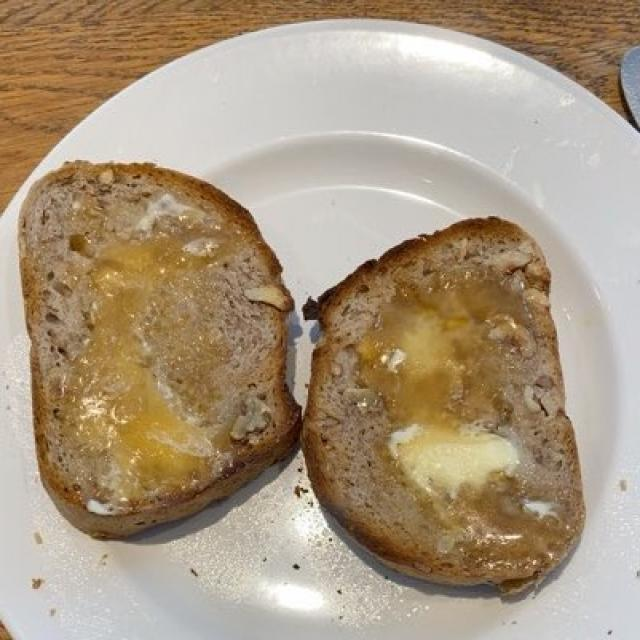bread: (31, 148, 575, 581)
butter: (380, 421, 532, 496)
honey: (58, 224, 538, 554)
